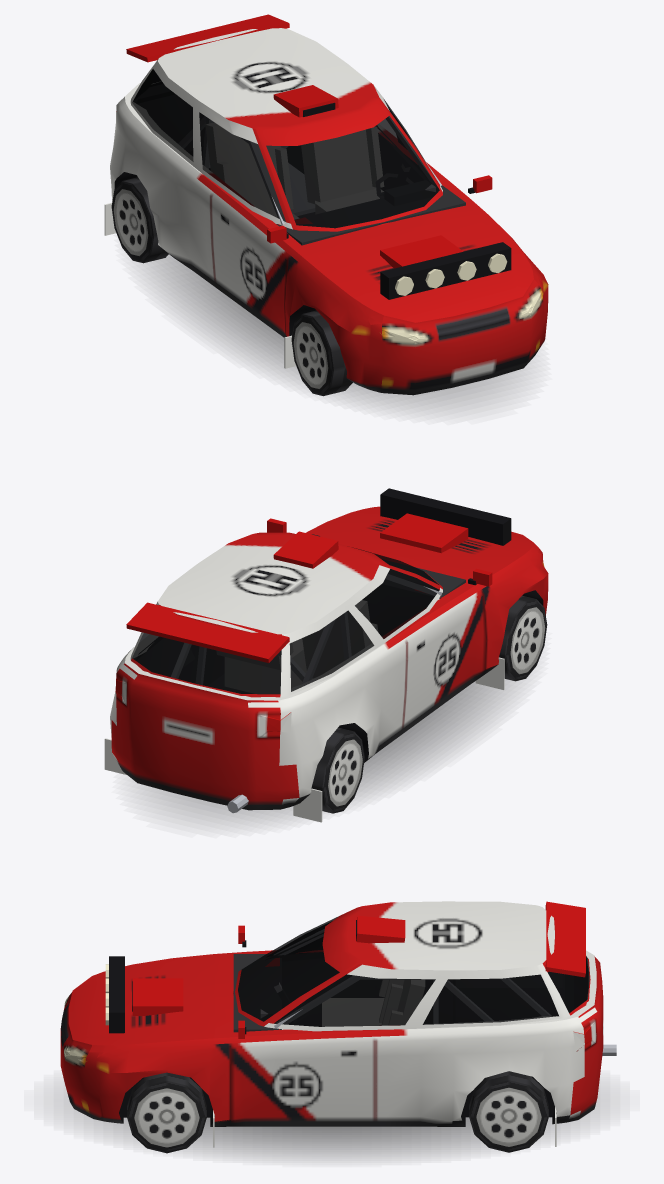
Rendered from rojao.glb.
3 renders of one model, top to bottom at view 1: azimuth 30°, elevation 25°; view 2: azimuth 150°, elevation 25°; view 3: azimuth 270°, elevation 25°, orthographic. The views are drawn at different scales.
Visible parts, largest first — view 1: Carroceria, Interior, Capo_malha, Porta_D_malha, Sombra, Roda_DD, Roda_TD, Tampa_malha, Farol, Porta_E_malha; view 2: Carroceria, Tampa_malha, Interior, Capo_malha, Porta_D_malha, Sombra, Roda_TD, Roda_DD, Lanterna; view 3: Carroceria, Interior, Porta_E_malha, Capo_malha, Sombra, Roda_TE, Roda_DE, Tampa_malha, Porta_D_malha.
Part boxes in pixels (x1,y1,x2,y2): Carroceria: (104,28,548,395); Interior: (133,84,465,245); Capo_malha: (308,213,538,323); Porta_D_malha: (211,124,292,334); Sombra: (145,255,522,410); Roda_DD: (291,310,352,396); Roda_TD: (111,177,168,263); Tampa_malha: (126,14,289,99); Farol: (379,291,543,344); Porta_E_malha: (377,92,492,193); Carroceria: (104,512,548,822); Tampa_malha: (126,602,289,790); Interior: (134,534,465,693); Capo_malha: (311,488,538,575); Porta_D_malha: (376,563,492,725); Sombra: (142,679,517,823); Roda_TD: (311,727,364,813); Roda_DD: (499,595,547,681); Lanterna: (115,679,291,737); Carroceria: (60,901,616,1147); Interior: (233,929,587,1032); Porta_E_malha: (231,964,375,1120); Capo_malha: (74,956,214,1054); Sombra: (63,1087,600,1158); Roda_TE: (469,1071,548,1152); Roda_DE: (127,1072,206,1153); Tampa_malha: (542,901,603,1091); Porta_D_malha: (238,923,328,956).
Size of the model in its own units: 2.44 by 1.48 by 4.76.
14 materials, 5 textured.
